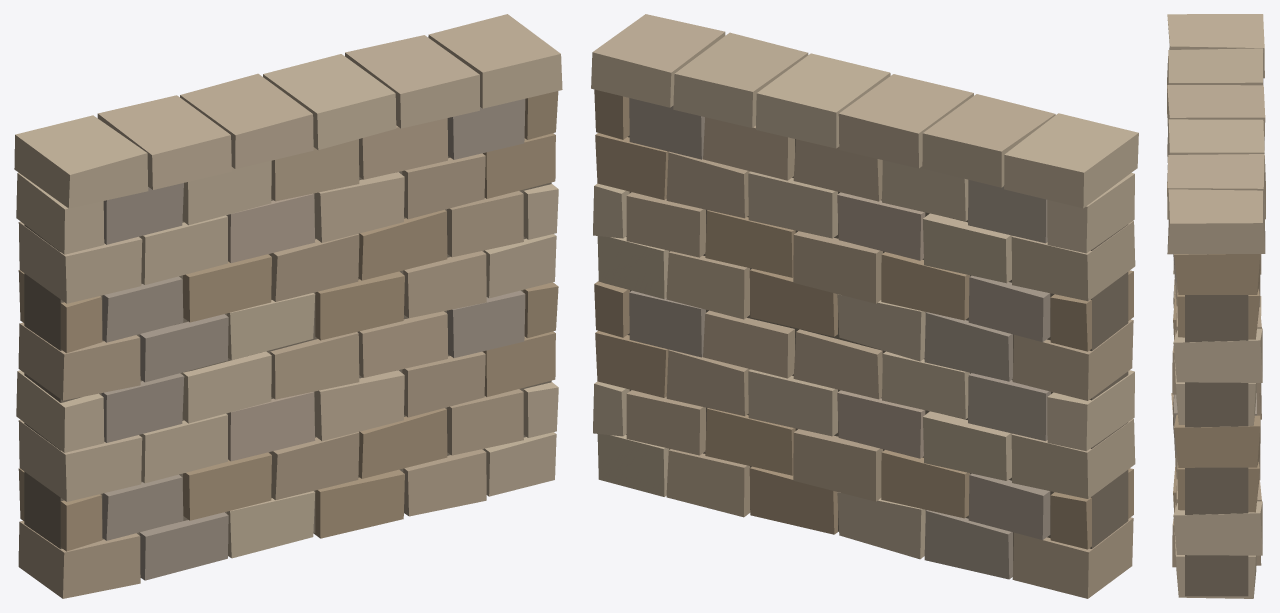
File: wall_straight.glb
3 views of the same model, side by side, from view 1: azimuth 30°, elevation 25°; view 2: azimuth 150°, elevation 25°; view 3: azimuth 270°, elevation 25° (orthographic). The views are drawn at different scales.
Visible parts, largest first — view 1: Straight_Window_Coping_0, Straight_Window_Coping_1, Straight_Window_Coping_4, Straight_Window_Coping_2, Straight_Window_Coping_3, Straight_Window_Coping_5, Straight_Stone_03_01_upper, Straight_Stone_03_01_lower, Straight_Stone_01_01_lower, Straight_Stone_01_01_upper, Straight_mortar_core, Straight_Stone_04_03_lower (+47 smaller); view 2: Straight_Window_Coping_0, Straight_Window_Coping_2, Straight_Window_Coping_3, Straight_Window_Coping_4, Straight_Window_Coping_5, Straight_Window_Coping_1, Straight_Stone_03_01_lower, Straight_Stone_03_01_upper, Straight_Stone_01_01_upper, Straight_Stone_01_01_lower, Straight_mortar_core, Straight_Stone_02_04_lower (+47 smaller); view 3: Straight_mortar_core, Straight_Window_Coping_5, Straight_Stone_02_07_lower, Straight_Stone_02_07_upper, Straight_Window_Coping_4, Straight_Stone_04_07_lower, Straight_Window_Coping_1, Straight_Window_Coping_3, Straight_Window_Coping_2, Straight_Window_Coping_0, Straight_Stone_04_07_upper, Straight_Stone_01_06_lower (+6 smaller).
Boxes of the visible parts, x1,y1,x2,y2 form: Straight_Window_Coping_0: [14, 115, 148, 208]; Straight_Window_Coping_1: [97, 95, 231, 189]; Straight_Window_Coping_4: [345, 35, 479, 128]; Straight_Window_Coping_2: [180, 73, 313, 169]; Straight_Window_Coping_3: [263, 54, 396, 150]; Straight_Window_Coping_5: [428, 14, 562, 108]; Straight_Stone_03_01_upper: [18, 221, 142, 303]; Straight_Stone_03_01_lower: [18, 419, 142, 501]; Straight_Stone_01_01_lower: [18, 521, 140, 598]; Straight_Stone_01_01_upper: [18, 322, 140, 400]; Straight_mortar_core: [24, 156, 551, 549]; Straight_Stone_04_03_lower: [182, 351, 271, 423]; Straight_Window_Coping_0: [1004, 113, 1138, 208]; Straight_Window_Coping_2: [838, 74, 973, 168]; Straight_Window_Coping_3: [756, 53, 890, 148]; Straight_Window_Coping_4: [673, 32, 808, 127]; Straight_Window_Coping_5: [591, 14, 725, 107]; Straight_Window_Coping_1: [922, 94, 1055, 187]; Straight_Stone_03_01_lower: [1011, 418, 1135, 498]; Straight_Stone_03_01_upper: [1011, 221, 1135, 301]; Straight_Stone_01_01_upper: [1012, 319, 1133, 400]; Straight_Stone_01_01_lower: [1012, 517, 1133, 598]; Straight_mortar_core: [626, 135, 1128, 560]; Straight_Stone_02_04_lower: [793, 429, 882, 501]; Straight_mortar_core: [1185, 295, 1248, 596]; Straight_Window_Coping_5: [1167, 189, 1265, 254]; Straight_Stone_02_07_lower: [1173, 501, 1262, 555]; Straight_Stone_02_07_upper: [1173, 328, 1262, 382]; Straight_Window_Coping_4: [1167, 154, 1265, 219]; Straight_Stone_04_07_lower: [1174, 414, 1260, 467]; Straight_Window_Coping_1: [1167, 48, 1263, 113]; Straight_Window_Coping_3: [1167, 119, 1265, 183]; Straight_Window_Coping_2: [1167, 85, 1265, 146]; Straight_Window_Coping_0: [1167, 14, 1264, 78]; Straight_Stone_04_07_upper: [1174, 254, 1260, 294]; Straight_Stone_01_06_lower: [1174, 532, 1256, 598].
Size of what is drawn, in the model's own units: 2.98 by 2.5 by 0.5943.
